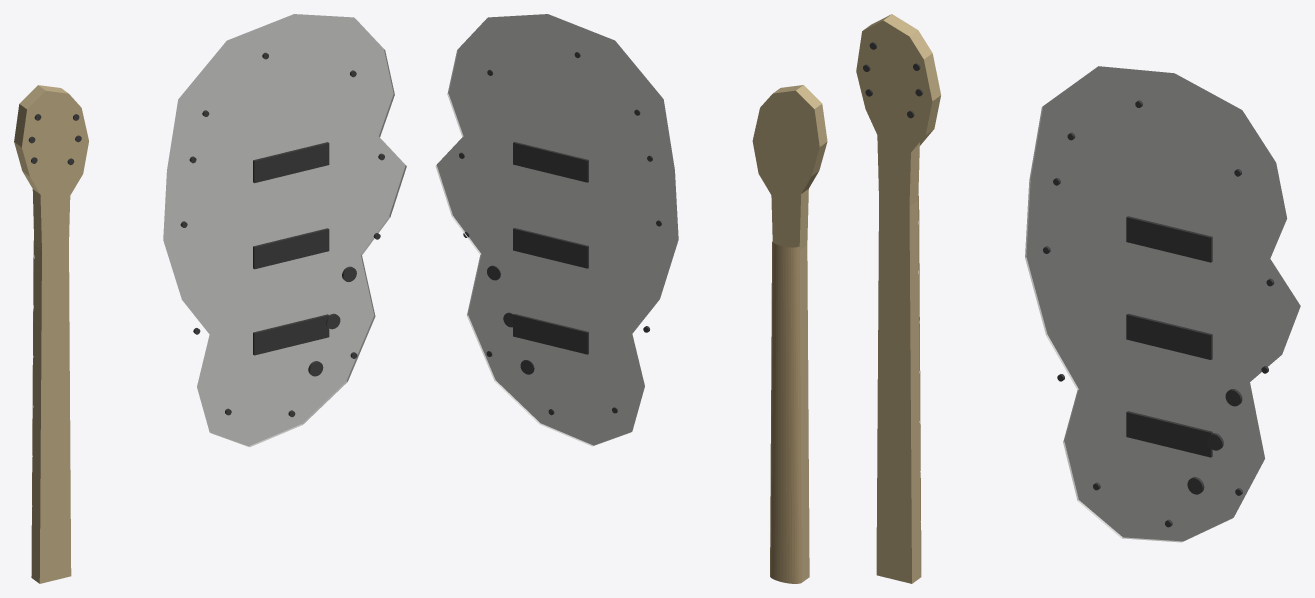
Rendered from fender_pickguard_and_neck_no_fretboard.glb.
3 views of the same model, side by side, from view 1: azimuth 30°, elevation 25°; view 2: azimuth 150°, elevation 25°; view 3: azimuth 330°, elevation 25° (orthographic). The views are drawn at different scales.
Parts seen in each view (by area): view 1: PICKGUARD_BODY, NECK_BLANK_TOP_NO_FRETBOARD, SINGLE_COIL_CUTOUT_1, SINGLE_COIL_CUTOUT_2, SINGLE_COIL_CUTOUT_3; view 2: PICKGUARD_BODY, NECK_BLANK_TOP_NO_FRETBOARD, ROUNDED_BACK_PROFILE, SINGLE_COIL_CUTOUT_3, SINGLE_COIL_CUTOUT_2, SINGLE_COIL_CUTOUT_1; view 3: PICKGUARD_BODY, NECK_BLANK_TOP_NO_FRETBOARD, SINGLE_COIL_CUTOUT_1, SINGLE_COIL_CUTOUT_2, SINGLE_COIL_CUTOUT_3.
Boxes of the visible parts, bbox=[...] form: PICKGUARD_BODY: bbox=[163, 14, 406, 447]; NECK_BLANK_TOP_NO_FRETBOARD: bbox=[14, 85, 88, 583]; SINGLE_COIL_CUTOUT_1: bbox=[253, 142, 329, 183]; SINGLE_COIL_CUTOUT_2: bbox=[253, 228, 329, 269]; SINGLE_COIL_CUTOUT_3: bbox=[253, 314, 329, 355]; PICKGUARD_BODY: bbox=[435, 14, 678, 446]; NECK_BLANK_TOP_NO_FRETBOARD: bbox=[752, 85, 827, 582]; ROUNDED_BACK_PROFILE: bbox=[770, 241, 801, 583]; SINGLE_COIL_CUTOUT_3: bbox=[513, 313, 588, 354]; SINGLE_COIL_CUTOUT_2: bbox=[513, 228, 588, 268]; SINGLE_COIL_CUTOUT_1: bbox=[513, 142, 588, 182]; PICKGUARD_BODY: bbox=[1025, 66, 1300, 542]; NECK_BLANK_TOP_NO_FRETBOARD: bbox=[856, 14, 940, 583]; SINGLE_COIL_CUTOUT_1: bbox=[1126, 216, 1212, 262]; SINGLE_COIL_CUTOUT_2: bbox=[1126, 313, 1212, 359]; SINGLE_COIL_CUTOUT_3: bbox=[1126, 411, 1212, 457].
Bounding box in the file's own units: 0.519 × 0.643 × 0.0301.
